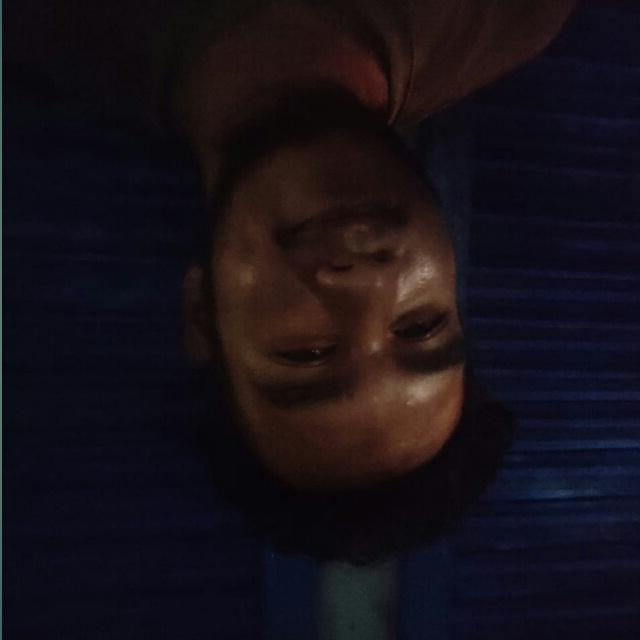Happy: (131, 121, 525, 518)
